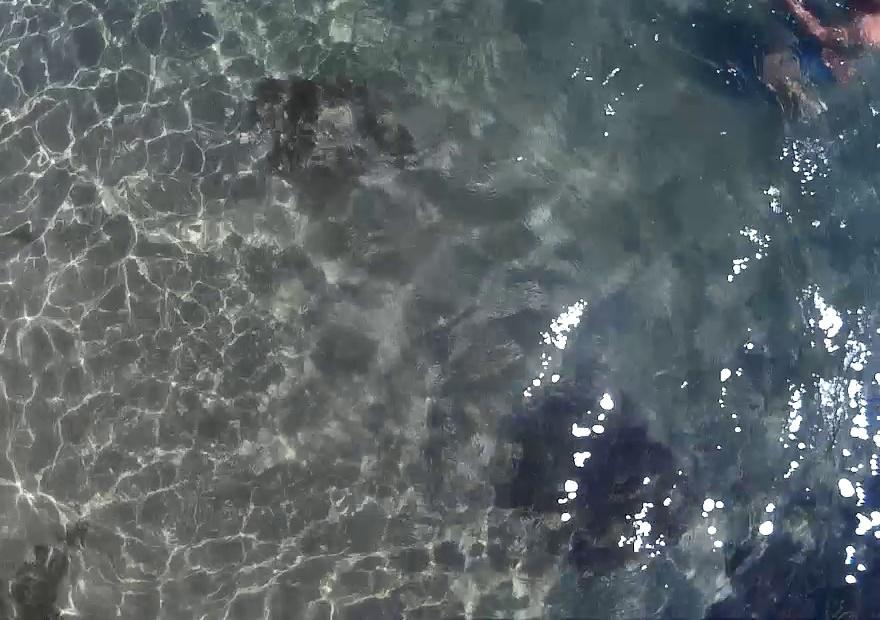human: (758, 0, 876, 104)
